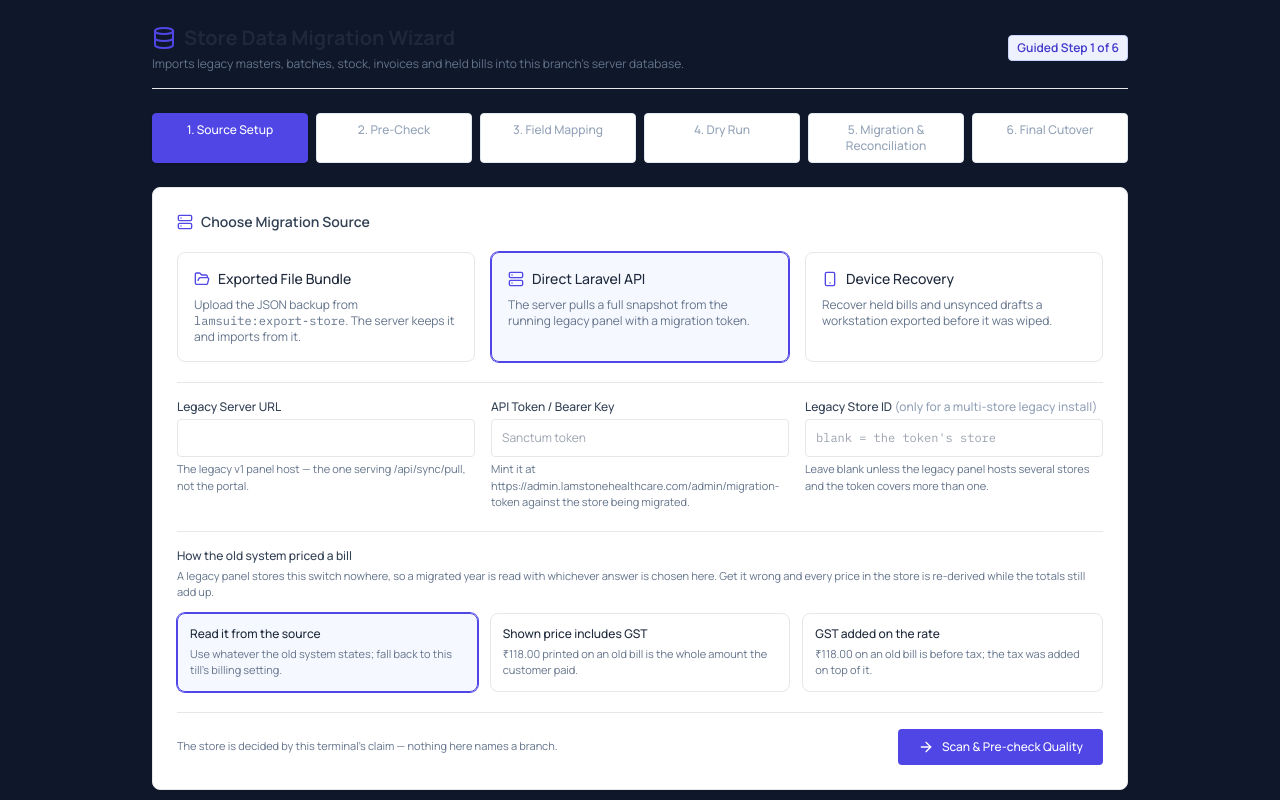
the migration wizard reports the server, not itself › refuses to scan without a token instead of asking the server
Click the button "Scan & Pre-check Quality": [1000, 746] box [898, 728, 1103, 764]
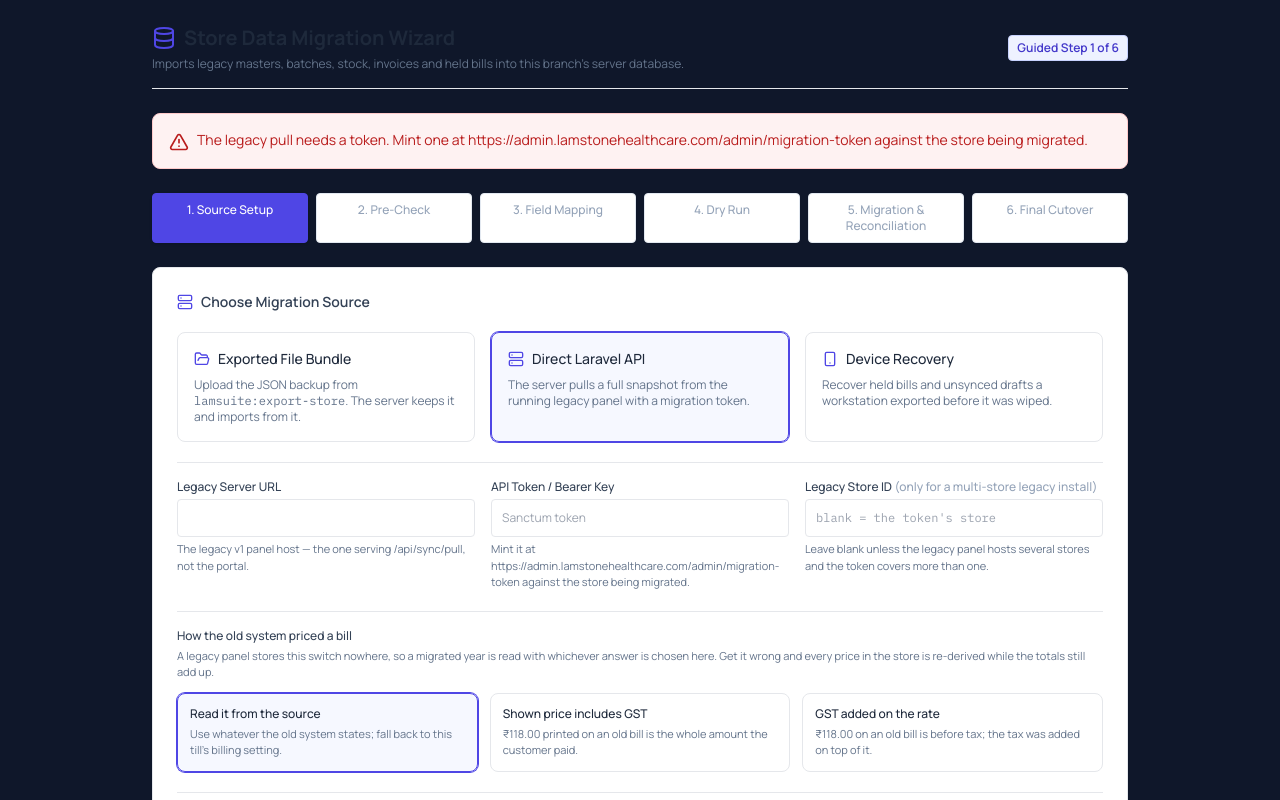
Expected: the text "legacy pull needs a token" is shown, [197, 130, 1088, 149]
